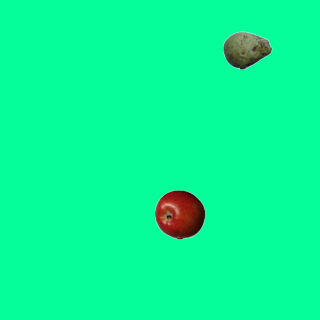Apple Braeburn: (154, 189, 204, 239)
Pear Stone: (222, 25, 272, 75)
